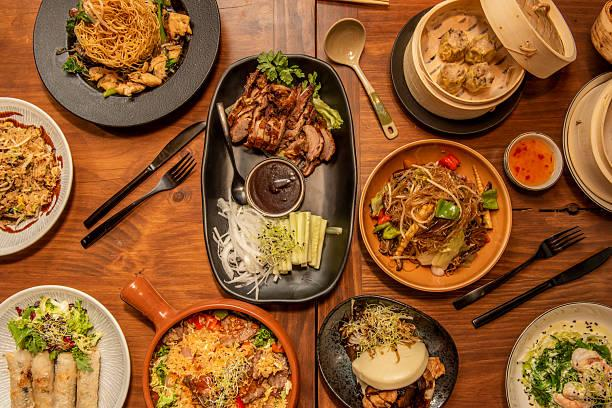Braised Crucian Carp: (201, 53, 350, 302), (33, 1, 220, 131), (358, 139, 509, 292), (389, 4, 529, 140), (142, 300, 297, 407), (0, 283, 130, 405), (315, 294, 454, 404), (1, 95, 75, 255), (503, 304, 611, 405)
